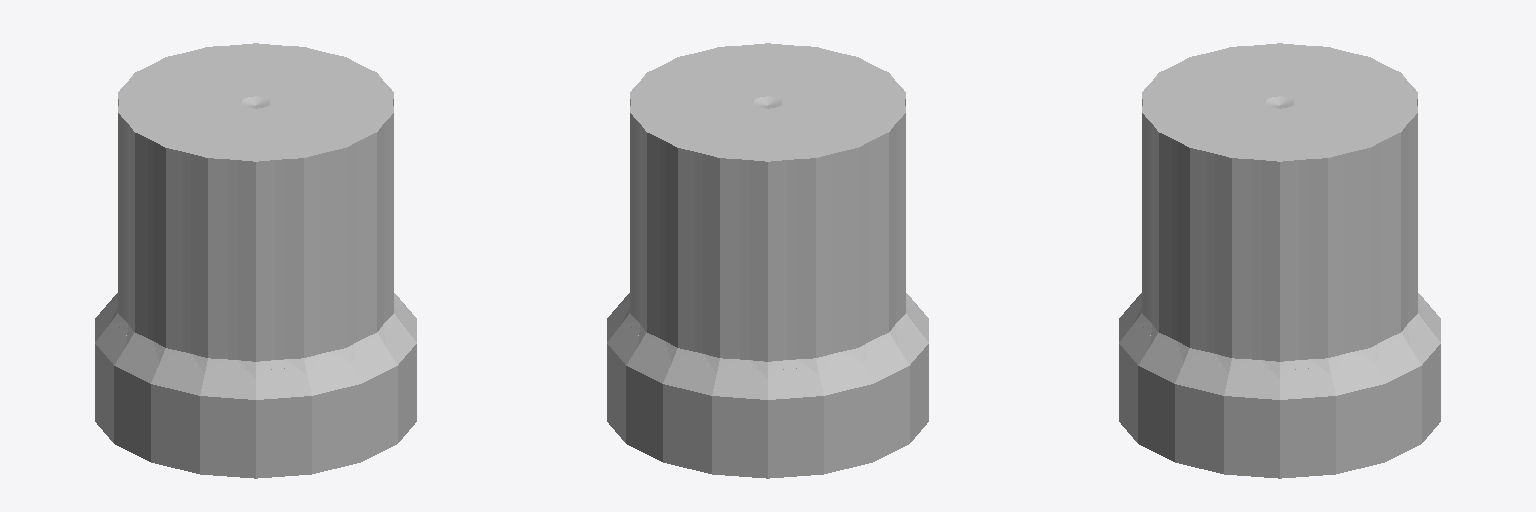
File: mdl_tapa_noname_05_parte_03.obj
3 views of the same model, side by side, from view 1: azimuth 30°, elevation 25°; view 2: azimuth 150°, elevation 25°; view 3: azimuth 270°, elevation 25° (orthographic).
Visible parts, largest first — view 1: Cylinder014; view 2: Cylinder014; view 3: Cylinder014.
Part boxes in pixels (left/top/right/bottom): Cylinder014: left=95, top=43, right=416, bottom=478; Cylinder014: left=607, top=43, right=928, bottom=478; Cylinder014: left=1119, top=43, right=1440, bottom=478.
Size of the model in its own units: 1.85 by 1.92 by 1.83.